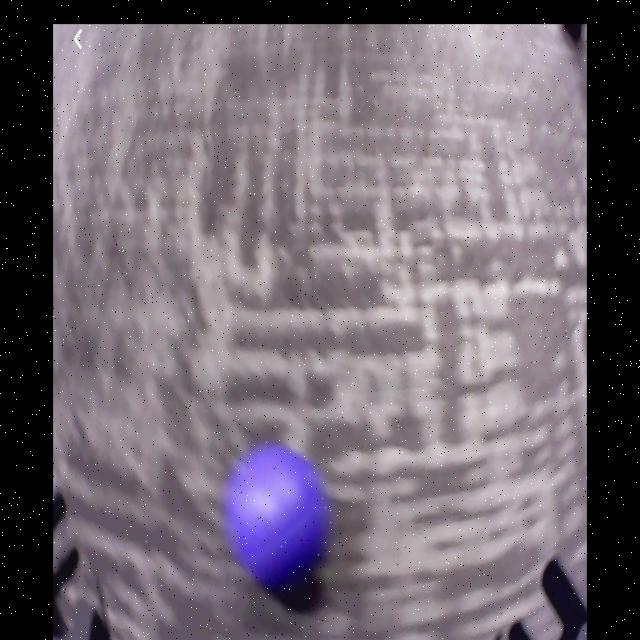ball: (236, 449, 318, 578)
